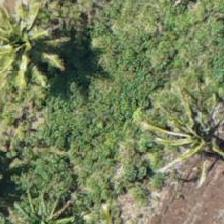coconut_tree: (147, 85, 223, 175), (0, 3, 67, 93)
